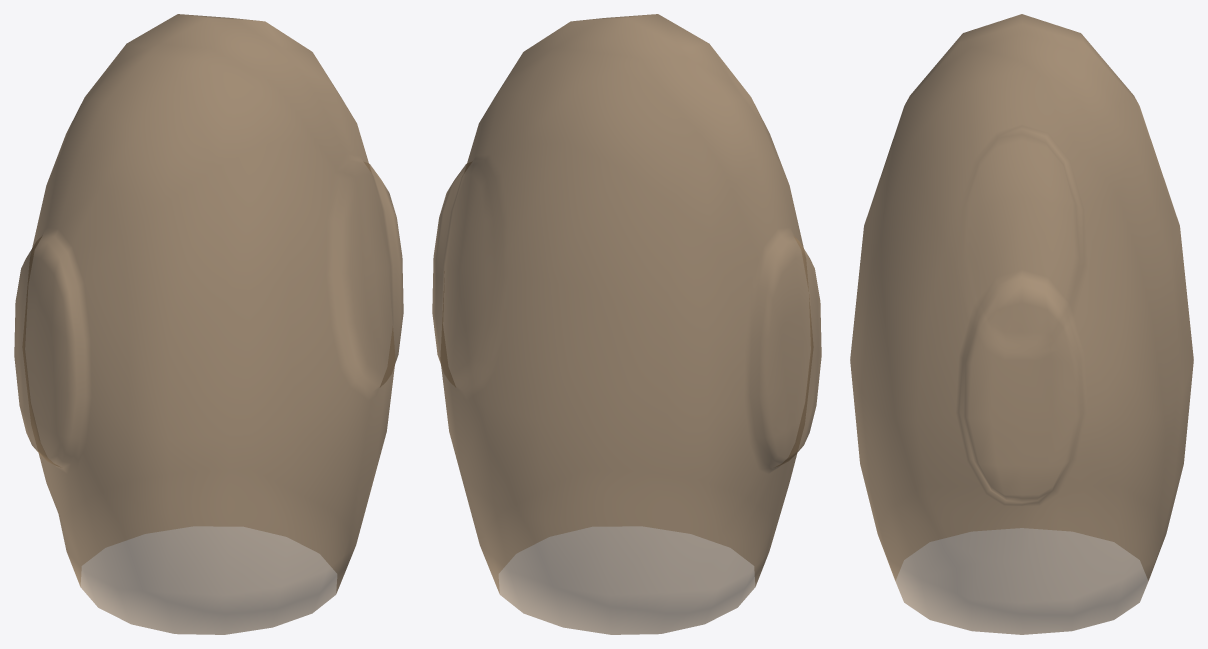
The model's file is Appliances_Blender_Jar.fbx.
3 views of the same model, side by side, from view 1: azimuth 30°, elevation 25°; view 2: azimuth 150°, elevation 25°; view 3: azimuth 270°, elevation 25° (orthographic).
Visible parts, largest first — view 1: Jar; view 2: Jar; view 3: Jar.
Part boxes in pixels (left/top/right/bottom): Jar: left=14, top=14, right=403, bottom=634; Jar: left=432, top=14, right=821, bottom=634; Jar: left=850, top=14, right=1193, bottom=634.
Size of the model in its own units: 50.34 by 78.34 by 43.81.
